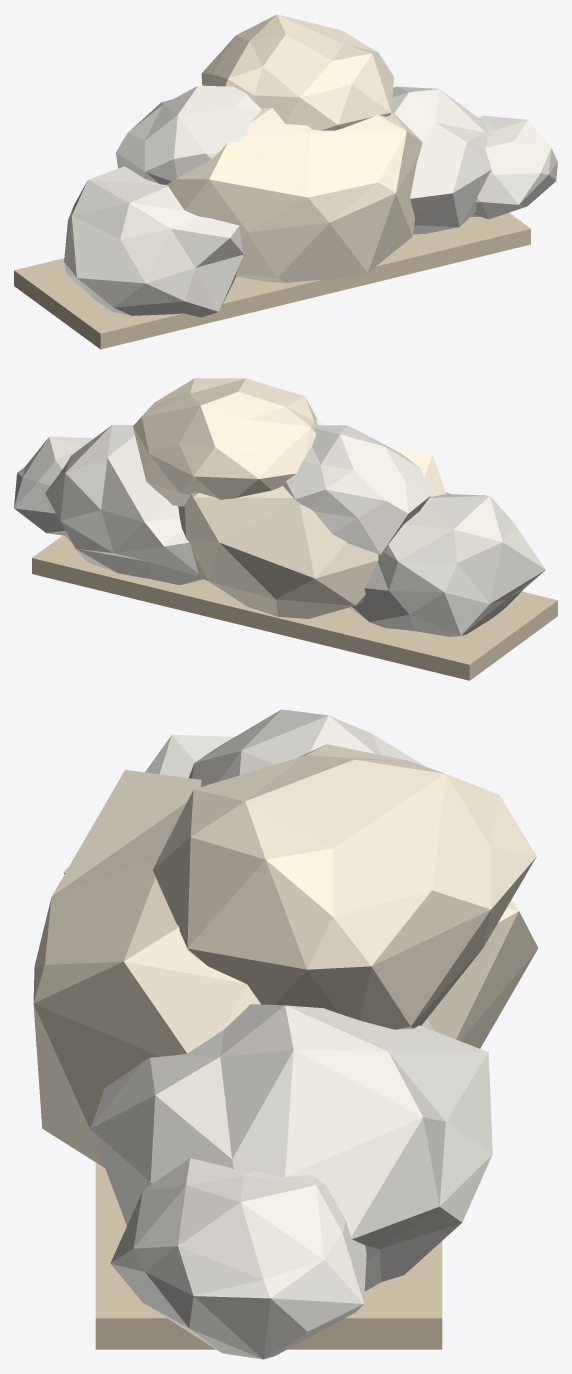
The model's file is cloud_a.glb.
3 views of the same model, one above another, from view 1: azimuth 30°, elevation 25°; view 2: azimuth 150°, elevation 25°; view 3: azimuth 270°, elevation 25° (orthographic). The views are drawn at different scales.
Parts seen in each view (by area): view 1: cloud; view 2: cloud; view 3: cloud.
Part boxes in pixels (x1,y1,x2,y2): cloud: (14,14,557,349); cloud: (14,378,557,680); cloud: (33,709,538,1359).
Size of the model in its own units: 9.87 by 4.09 by 4.37.
